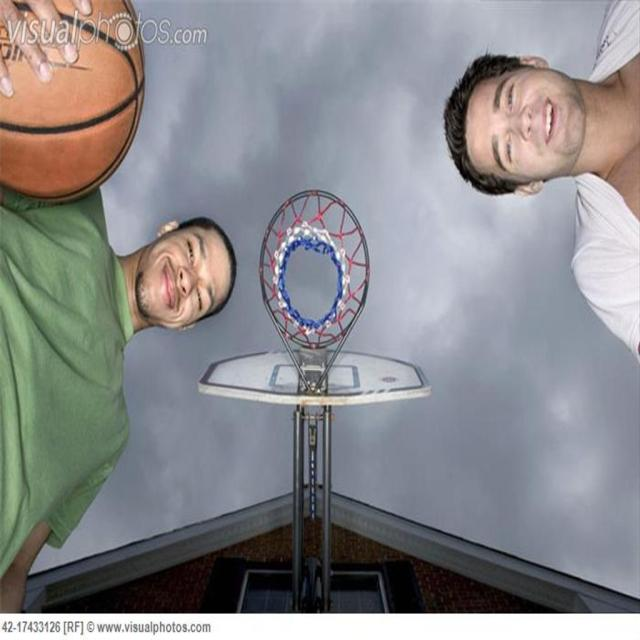Face: (455, 58, 589, 206), (143, 222, 236, 331)
